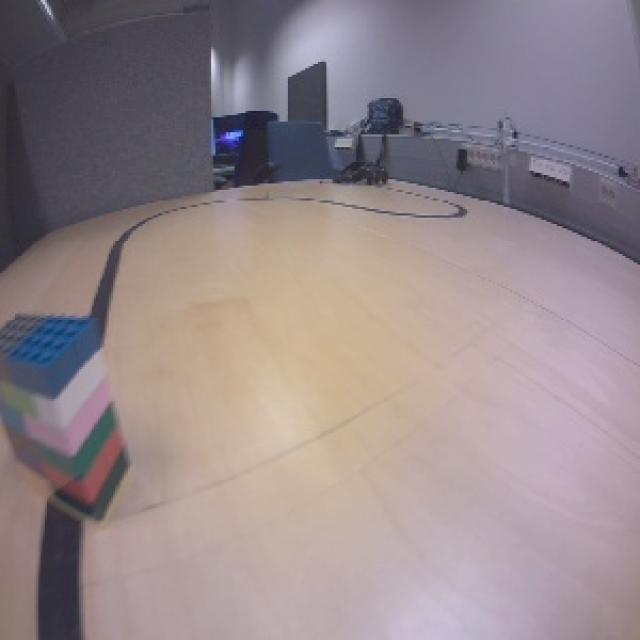obstacle: (0, 309, 137, 530)
